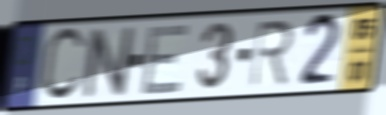2: (294, 10, 347, 93)
3: (193, 20, 235, 94)
C: (38, 24, 88, 105)
E: (138, 21, 192, 99)
N: (81, 24, 136, 101)
R: (248, 17, 297, 91)
